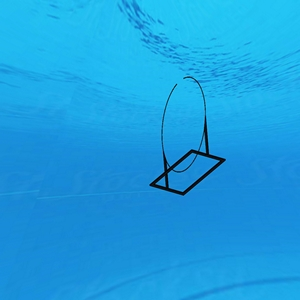circle: (148, 75, 228, 199)
